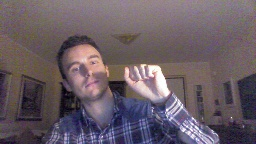Pugno: (121, 62, 172, 100)
